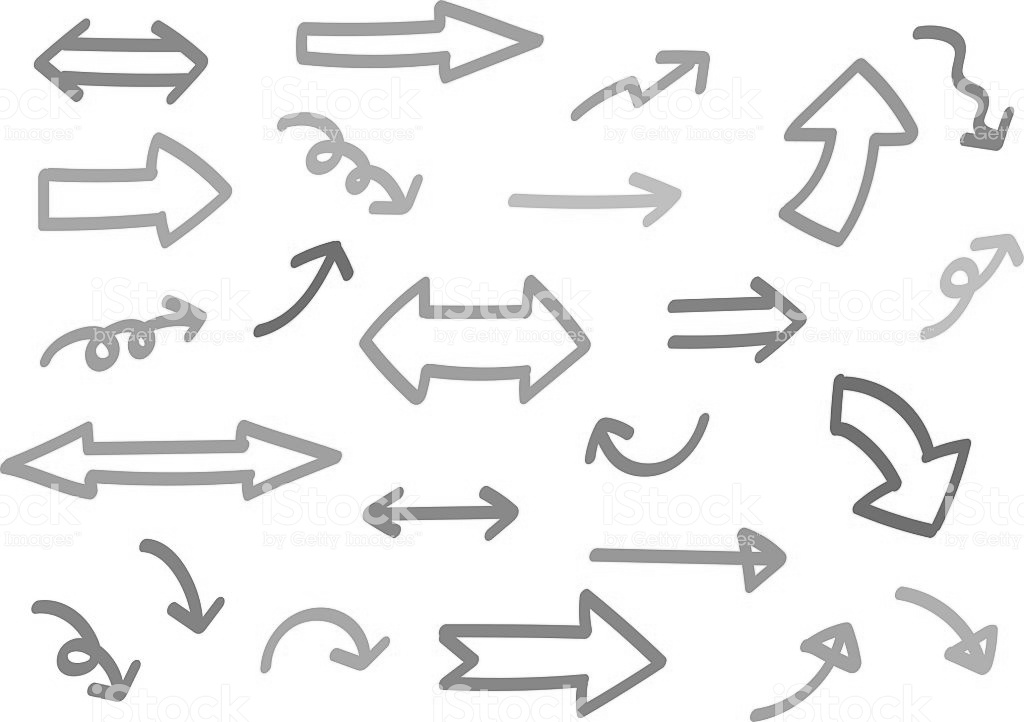arrow: (25, 123, 238, 254), (266, 105, 430, 223), (583, 515, 793, 605), (20, 585, 162, 714), (905, 15, 1018, 171), (30, 286, 217, 376), (489, 162, 684, 239), (906, 222, 1024, 348), (738, 612, 873, 722), (122, 528, 237, 650), (567, 40, 722, 129), (246, 598, 397, 683), (245, 237, 356, 350), (888, 576, 1001, 685), (574, 400, 713, 488)
